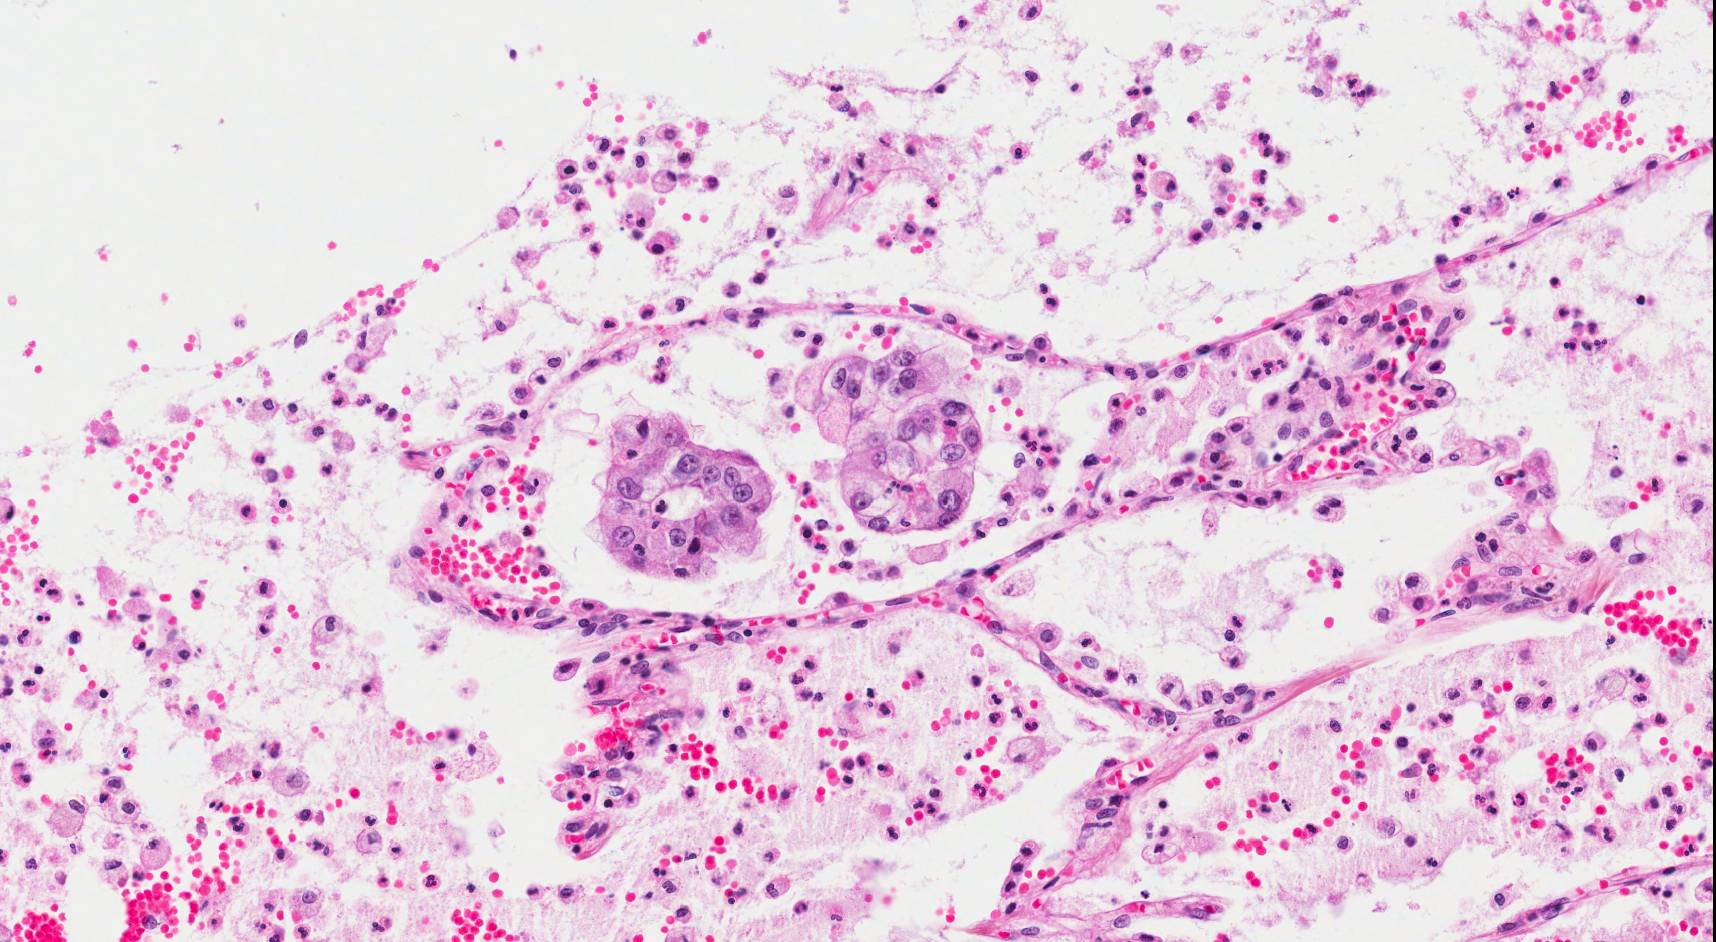stas: (789, 343, 985, 533), (599, 413, 772, 579)
